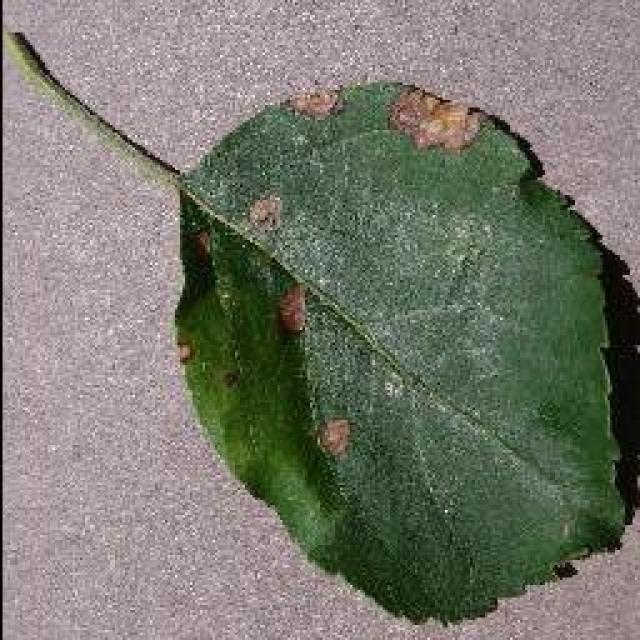apple scab disease: (170, 77, 638, 625)
